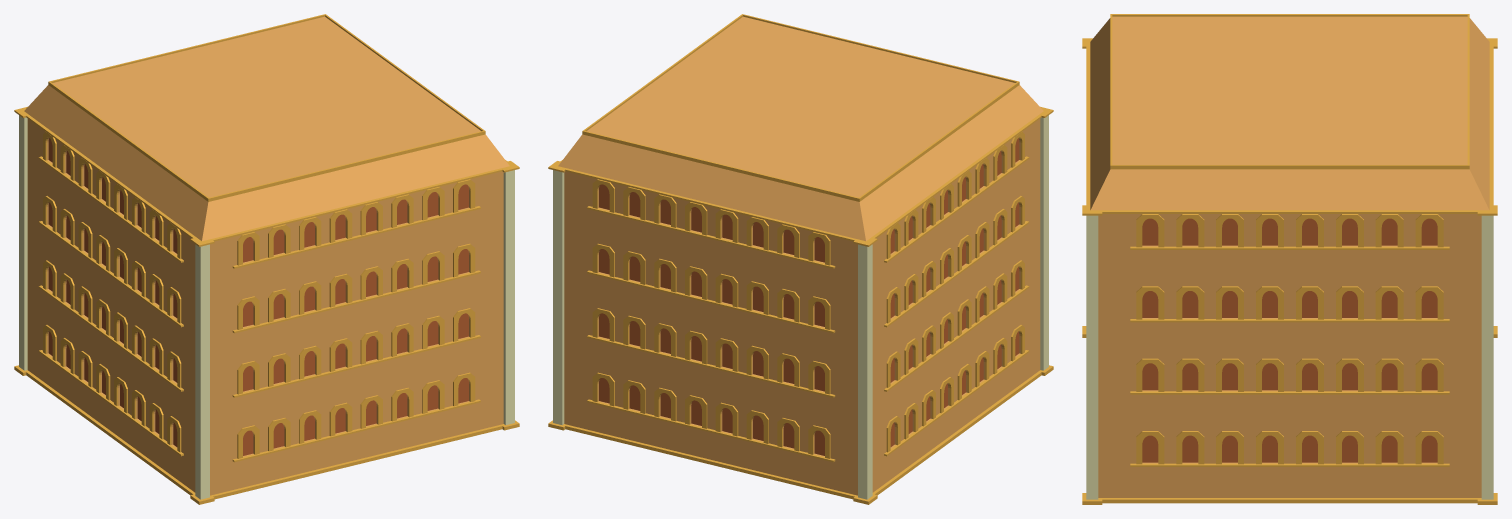
The model's file is House v5.002.fbx.
3 renders of one model, left to right at view 1: azimuth 30°, elevation 25°; view 2: azimuth 150°, elevation 25°; view 3: azimuth 270°, elevation 25°, orthographic. The views are drawn at different scales.
Parts seen in each view (by area): view 1: Building; view 2: Building; view 3: Building.
Boxes of the visible parts, x1,y1,x2,y2 form: Building: (14, 14, 519, 504); Building: (548, 14, 1053, 504); Building: (1082, 14, 1497, 504).
Bounding box in the file's own units: 1040 × 1040 × 905.
